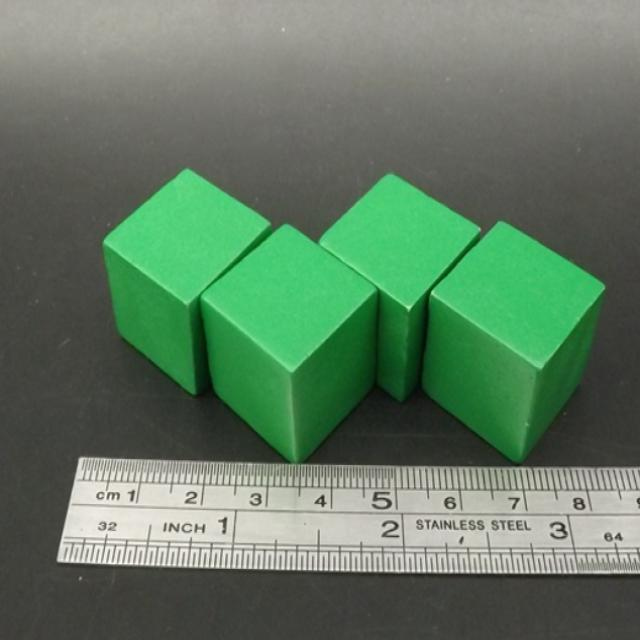green cube: (421, 218, 607, 466), (201, 221, 379, 464), (103, 166, 274, 399), (317, 171, 480, 404)
